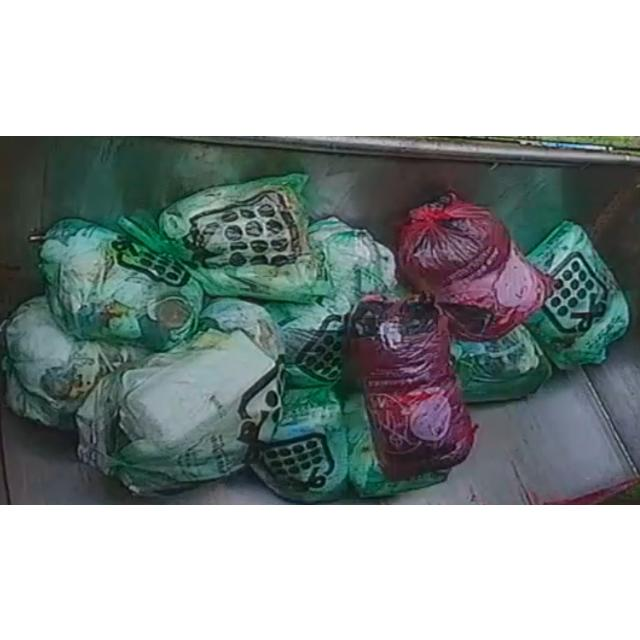general_trashbag: (76, 329, 281, 494), (265, 216, 396, 386), (159, 172, 329, 301), (39, 218, 204, 350), (2, 295, 150, 429), (525, 220, 629, 368), (250, 385, 348, 502), (451, 324, 552, 401)
other_trashbag: (345, 294, 475, 479), (398, 190, 550, 340)
